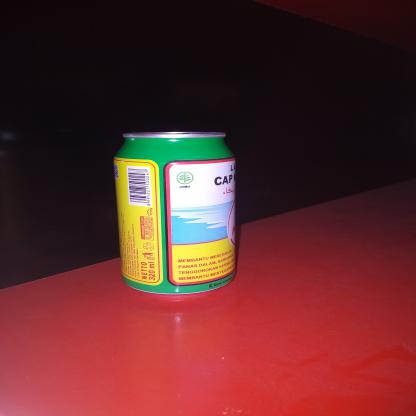bottle: (111, 125, 240, 299)
